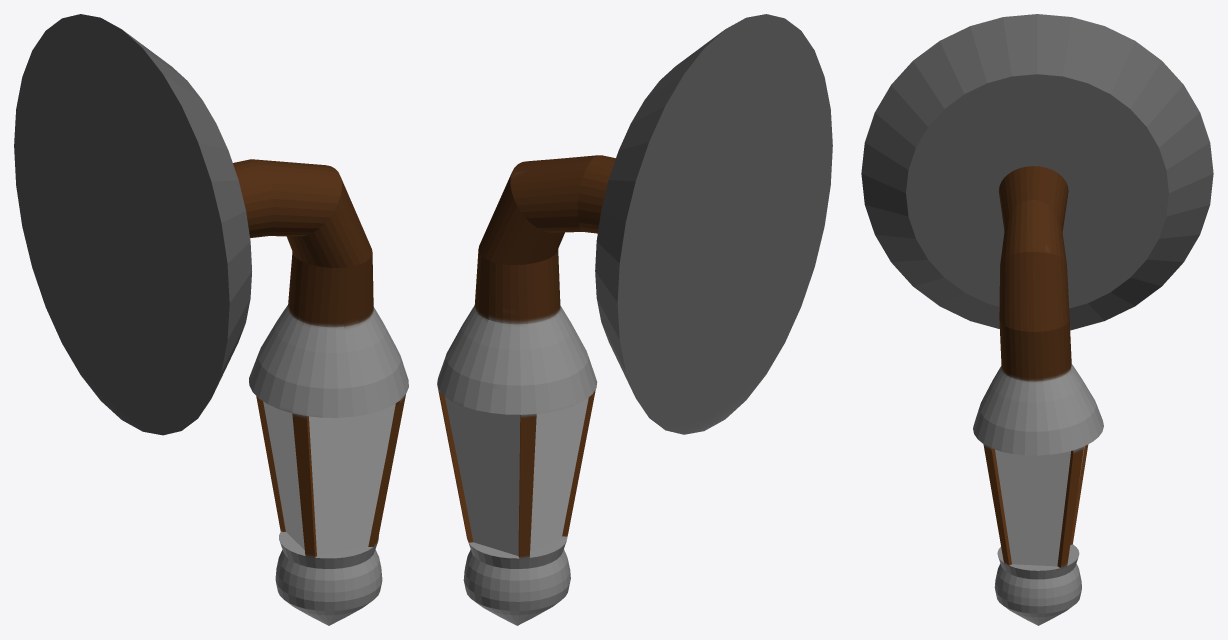
Rendered from dentou.fbx.
The picture shows the model from 3 angles, left to right: view 1: azimuth 30°, elevation 25°; view 2: azimuth 150°, elevation 25°; view 3: azimuth 270°, elevation 25°; orthographic projection. The views are drawn at different scales.
Parts seen in each view (by area): view 1: Cylinder.001; view 2: Cylinder.001; view 3: Cylinder.001.
Boxes of the visible parts, x1,y1,x2,y2 form: Cylinder.001: (14,14,408,625); Cylinder.001: (437,14,832,625); Cylinder.001: (861,14,1213,625).
Bounding box in the file's own units: 201 × 448 × 270.
